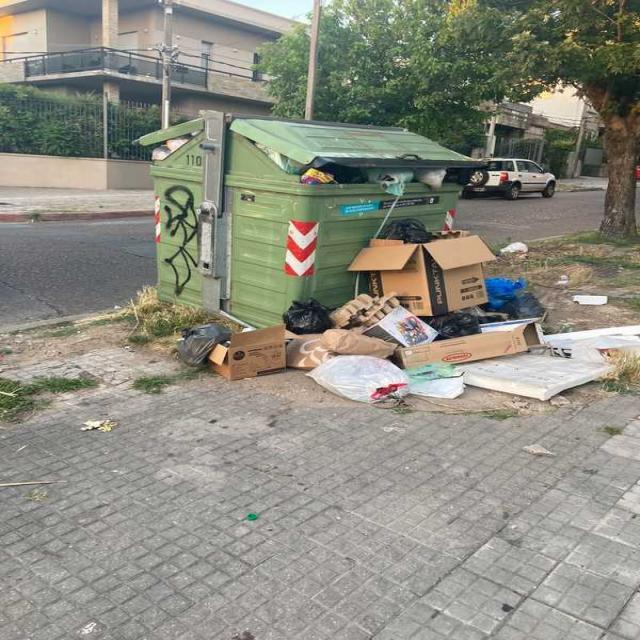garbage: (104, 270, 639, 412), (282, 157, 604, 350)
